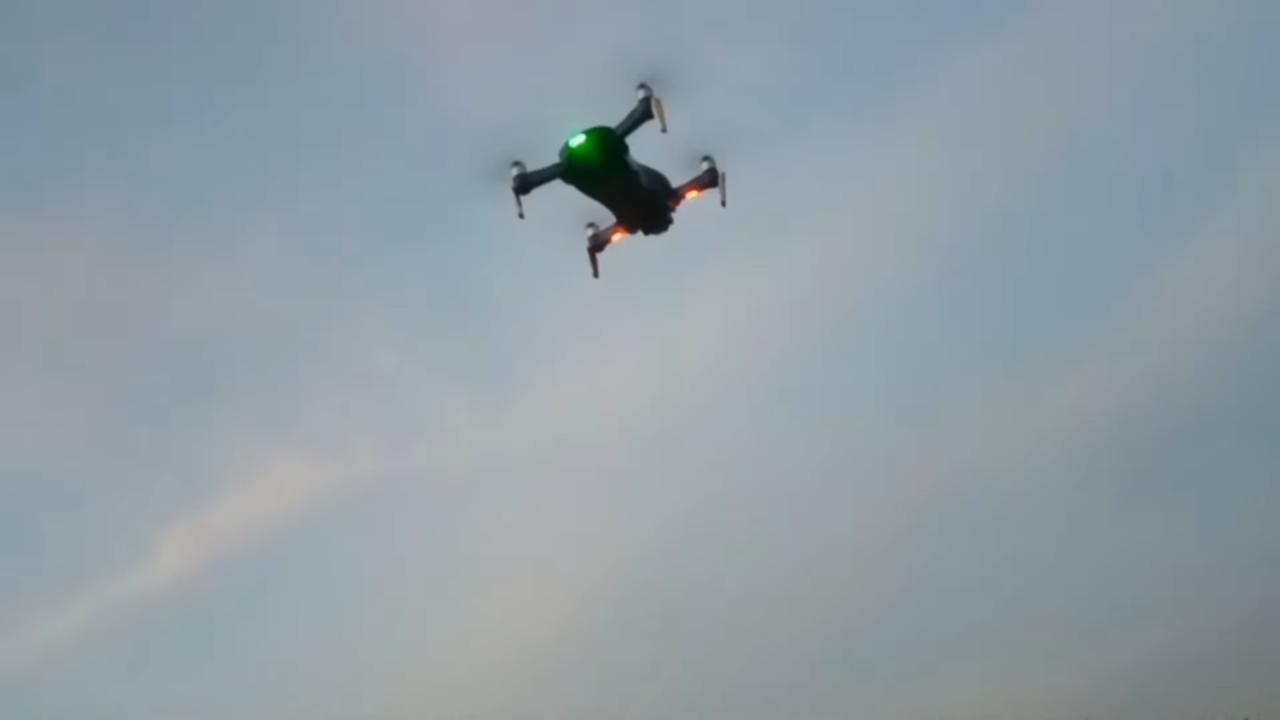Drone: (463, 62, 759, 299)
